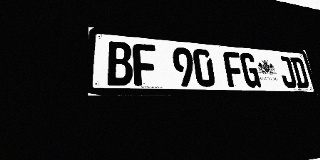0: (192, 48, 216, 87)
9: (172, 46, 196, 87)
B: (107, 41, 133, 86)
D: (290, 57, 310, 88)
F: (132, 43, 158, 86), (222, 51, 245, 87)
G: (239, 52, 261, 87)
J: (277, 56, 297, 88)
